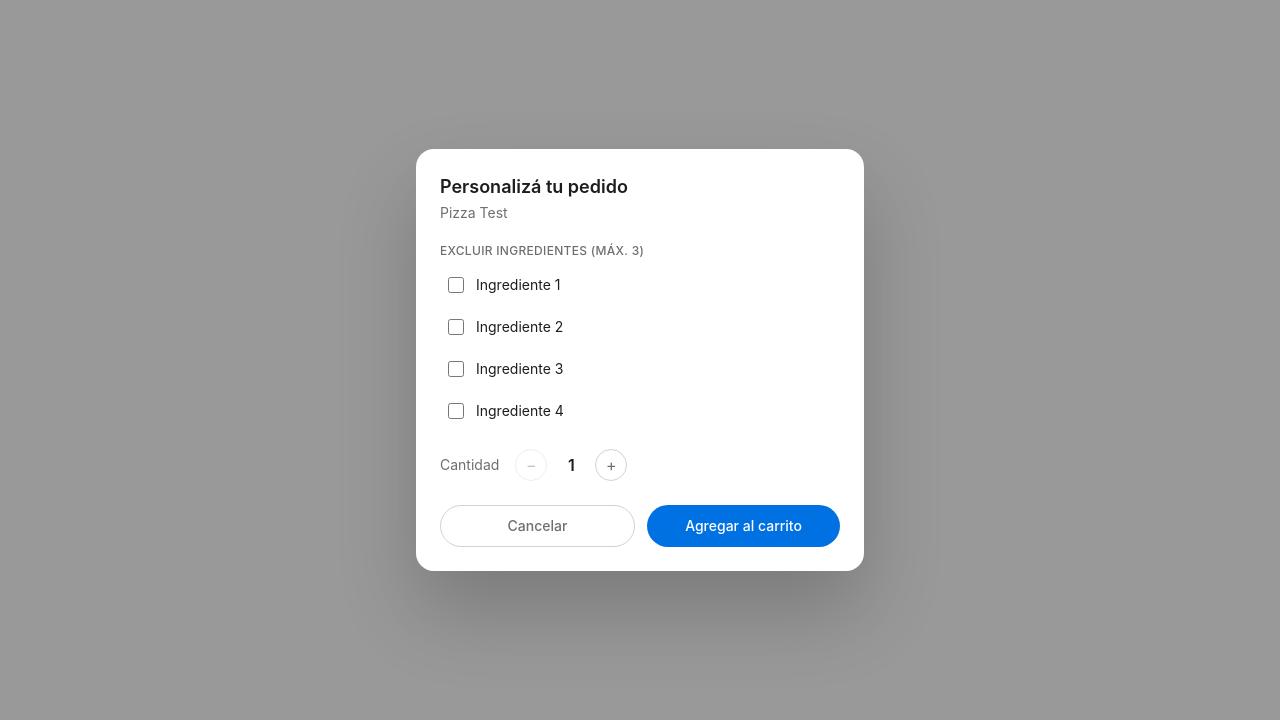
Test: AgregarAlCarritoModal › el 4to checkbox se habilita al desmarcar uno
Click the checkbox labelled "Ingrediente 1" at (456, 285), box x1=448 y1=277 x2=464 y2=293
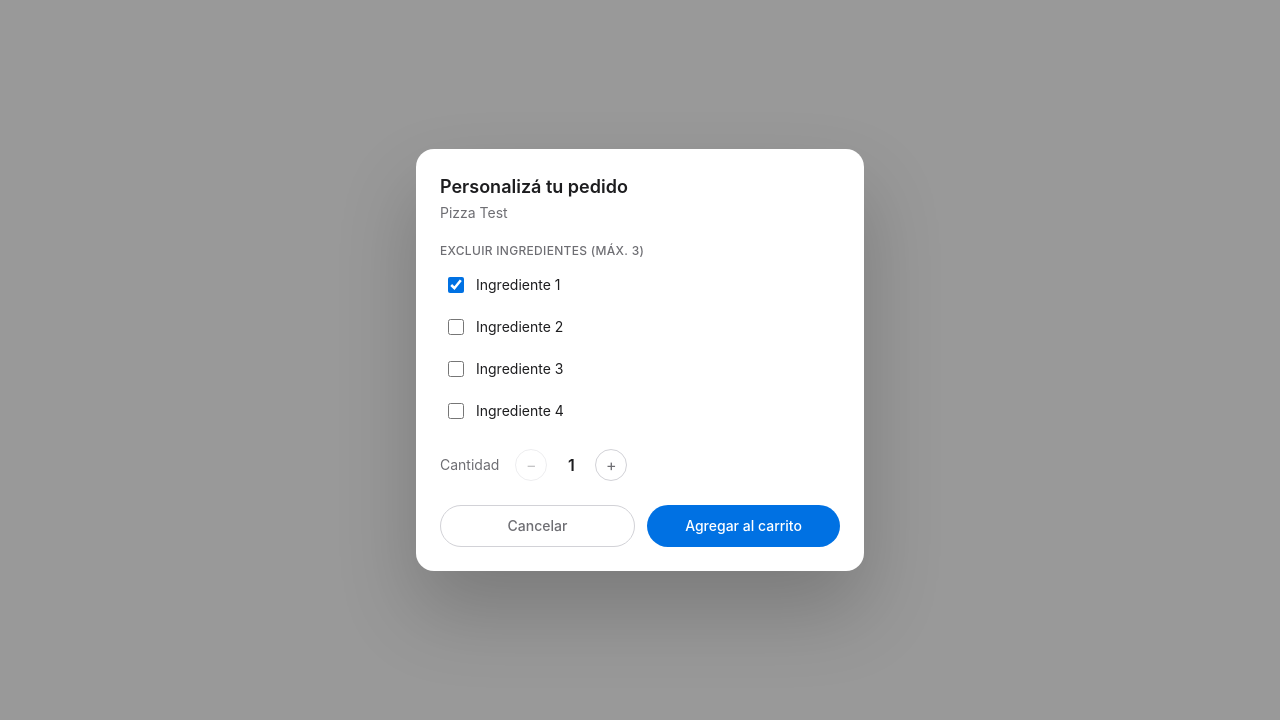
Click the checkbox labelled "Ingrediente 2" at (456, 327), box x1=448 y1=319 x2=464 y2=335
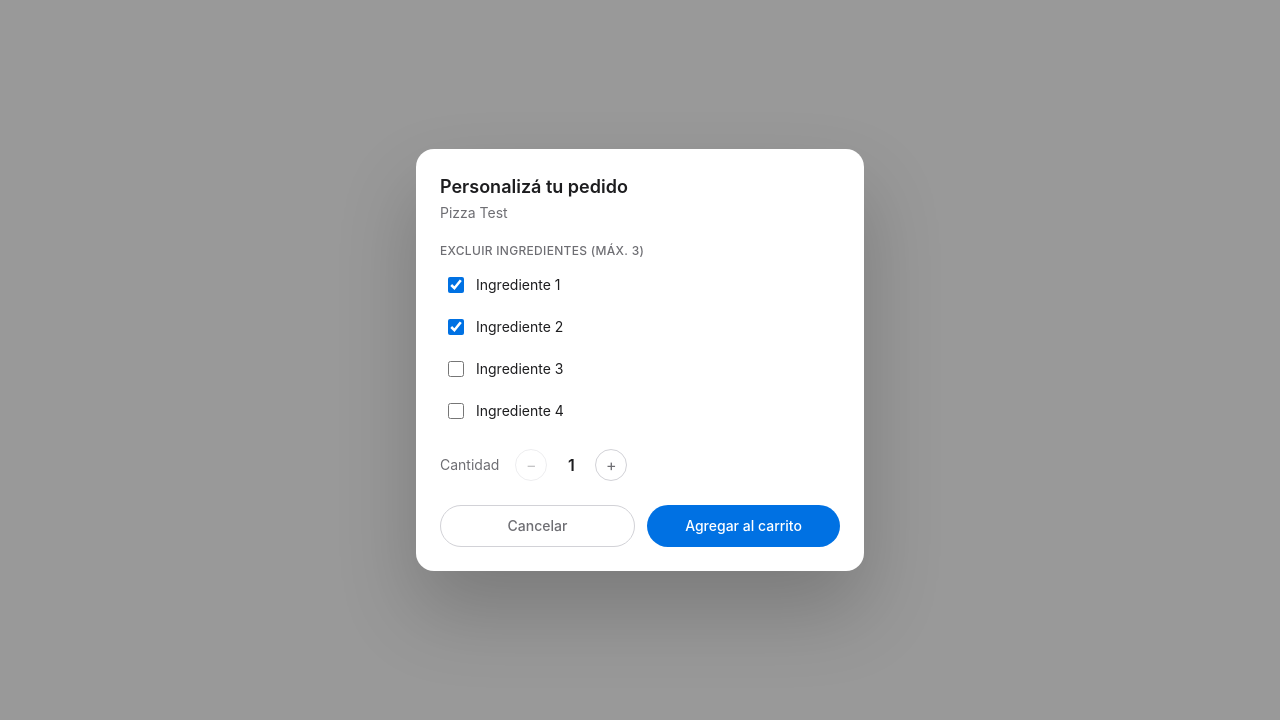
Click the checkbox labelled "Ingrediente 3" at (456, 369), box x1=448 y1=361 x2=464 y2=377
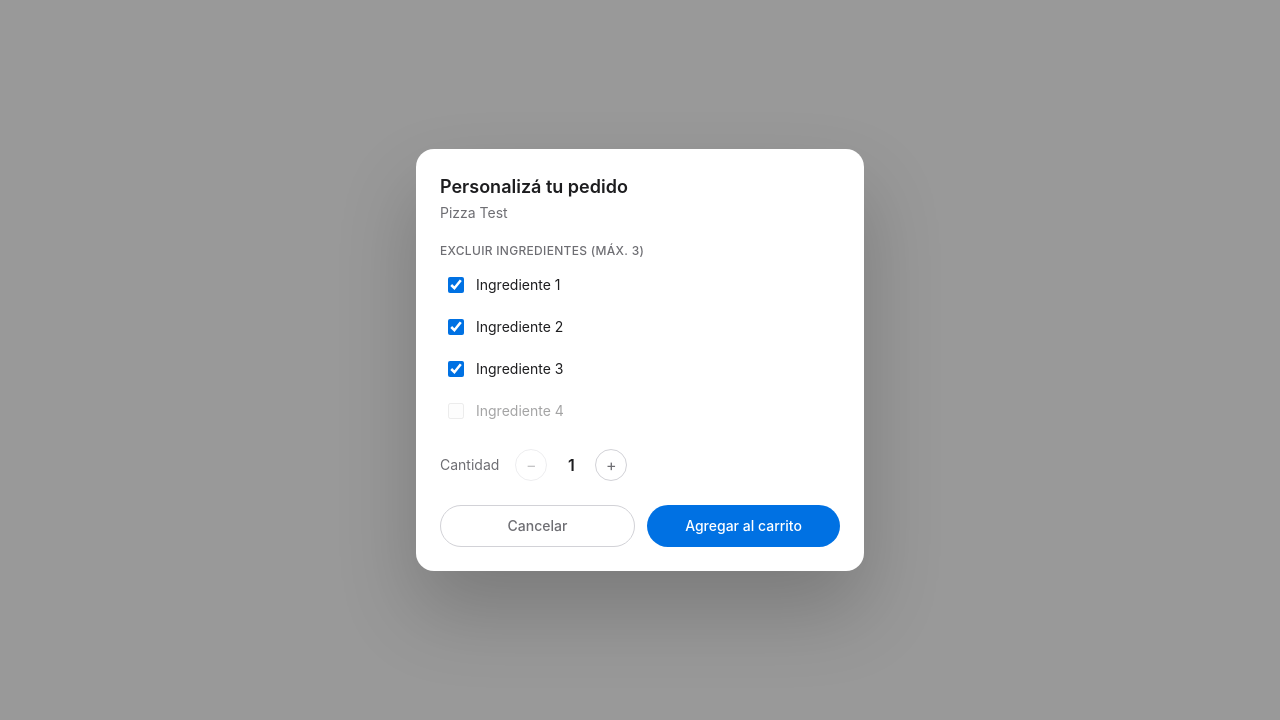
Click the checkbox labelled "Ingrediente 1" at (456, 285), box x1=448 y1=277 x2=464 y2=293
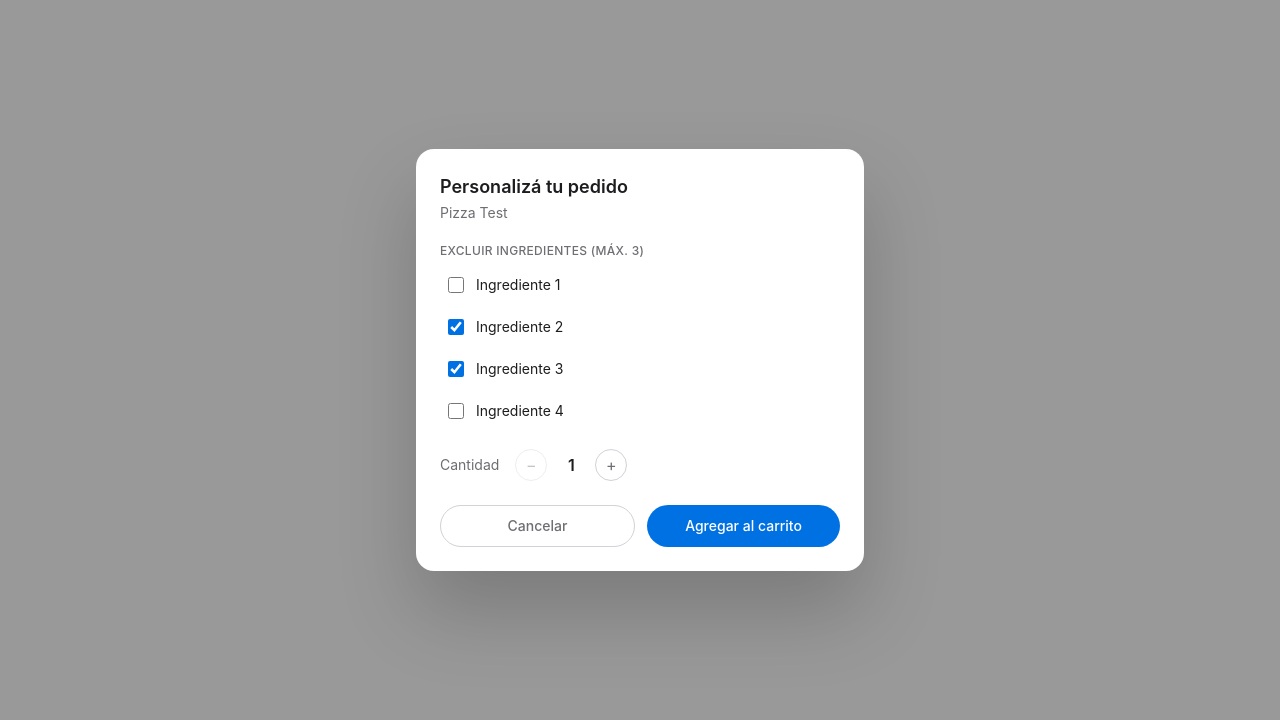
Expected: the checkbox labelled "Ingrediente 4" is enabled, x1=448 y1=403 x2=464 y2=419
